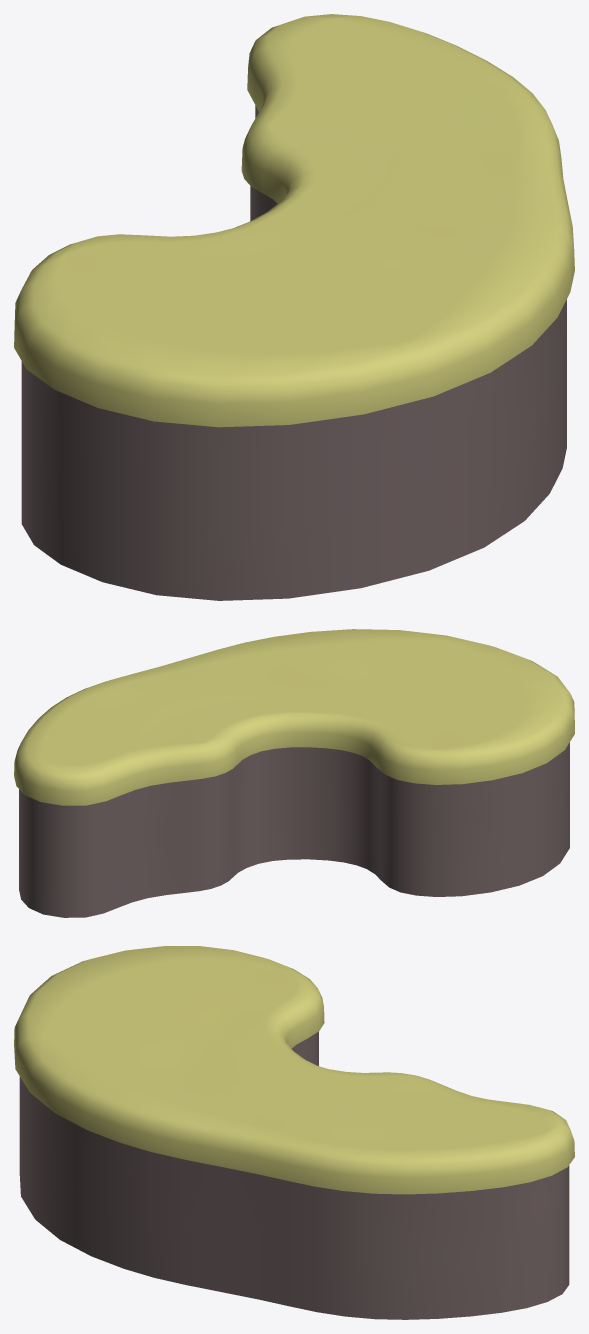
The model's file is Mountains-02.fbx.
3 views of the same model, one above another, from view 1: azimuth 30°, elevation 25°; view 2: azimuth 150°, elevation 25°; view 3: azimuth 270°, elevation 25° (orthographic). The views are drawn at different scales.
Visible parts, largest first — view 1: Mountains-02; view 2: Mountains-02; view 3: Mountains-02.
Part boxes in pixels (box(x1,y1,x2,y2)): Mountains-02: box(14, 14, 574, 600); Mountains-02: box(14, 629, 574, 917); Mountains-02: box(14, 946, 574, 1319).
Bounding box in the file's own units: 80765 × 26839 × 85762.
